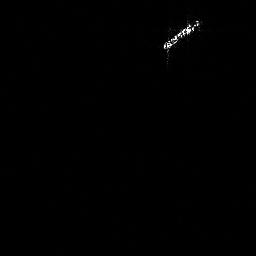ship: (161, 17, 202, 65)
